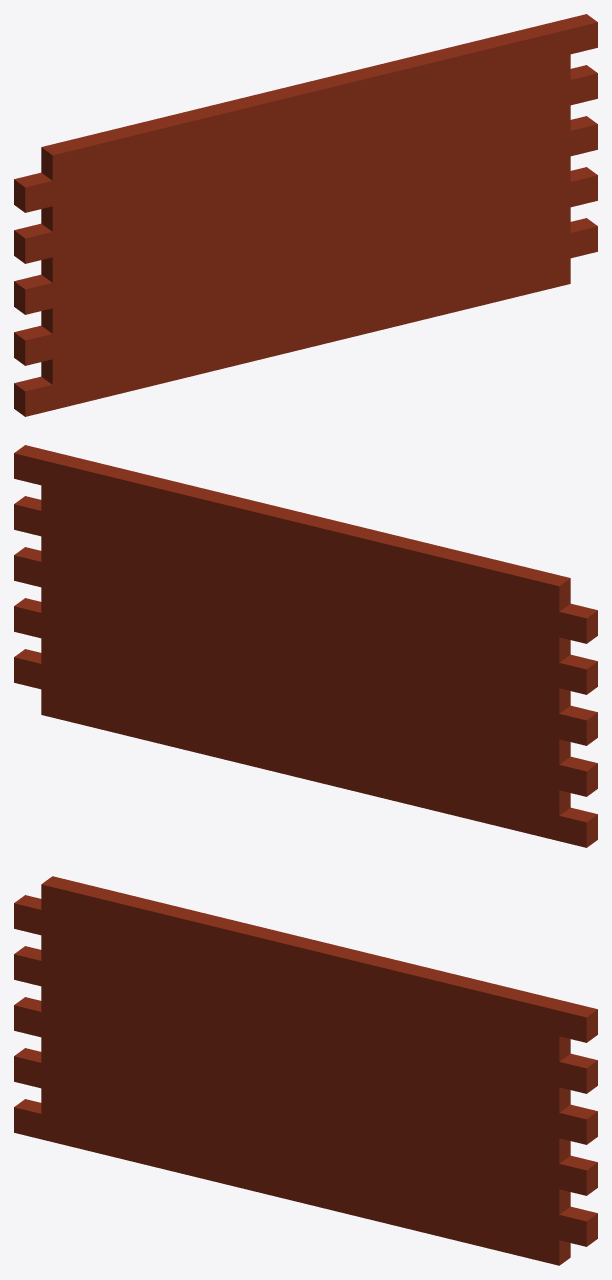
The model's file is pared de ladrillos .glb.
The picture shows the model from 3 angles, top to bottom: view 1: azimuth 30°, elevation 25°; view 2: azimuth 150°, elevation 25°; view 3: azimuth 330°, elevation 25°; orthographic projection.
Visible parts, largest first — view 1: Cubo; view 2: Cubo; view 3: Cubo.
Part boxes in pixels (x1=…): Cubo: x1=14, y1=14, x2=597, y2=416; Cubo: x1=14, y1=445, x2=597, y2=847; Cubo: x1=14, y1=876, x2=597, y2=1265.
Size of the model in its own units: 29.03 by 12.35 by 0.9893.
